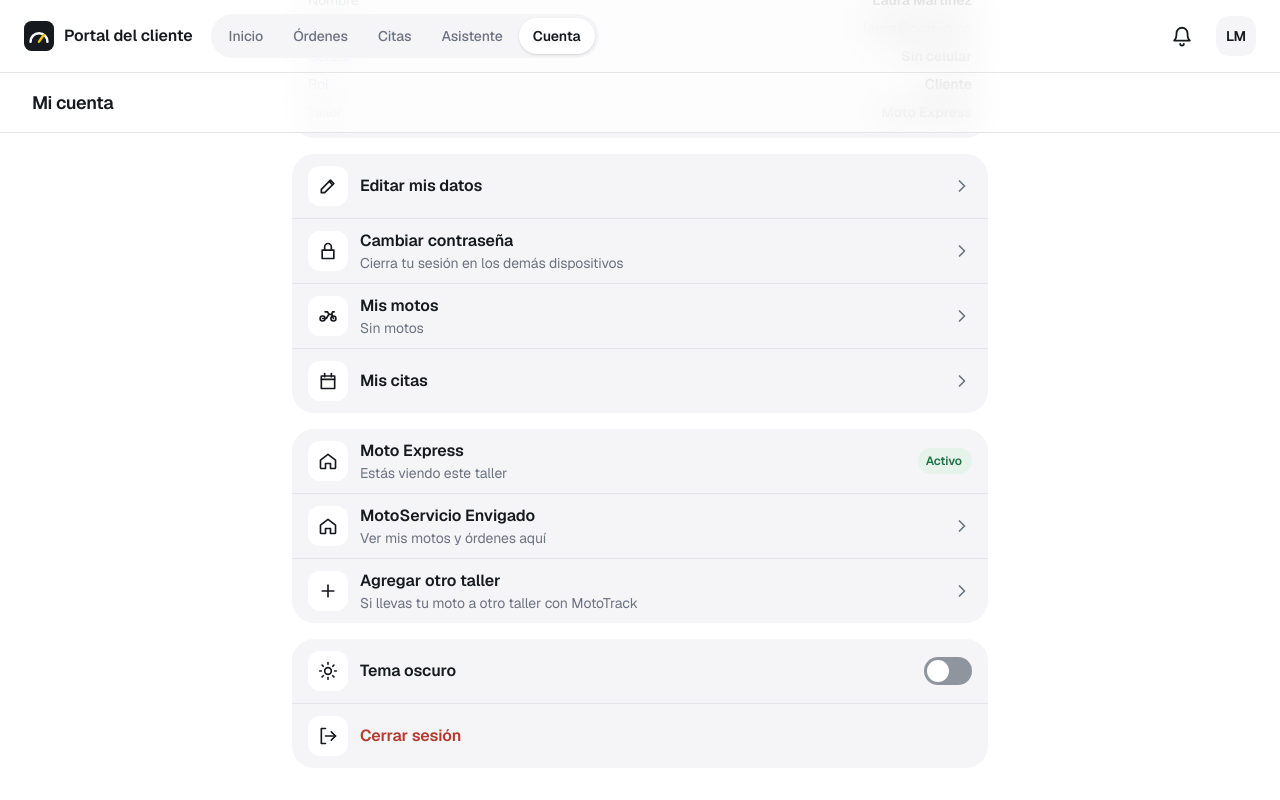
Test: HU-91 · Cuenta de cliente en varios talleres › Mi cuenta lista sus talleres y cambia al otro taller
(page scrolled)
Check: the text "Moto Express" is shown, box [360,440,464,461]
Check: the text "Activo" is shown, box [918,448,972,474]
Click the button "MotoServicio Envigado Ver mis motos y órdenes aquí" at x=328, y=526, box [292,494,988,558]
(page scrolled)
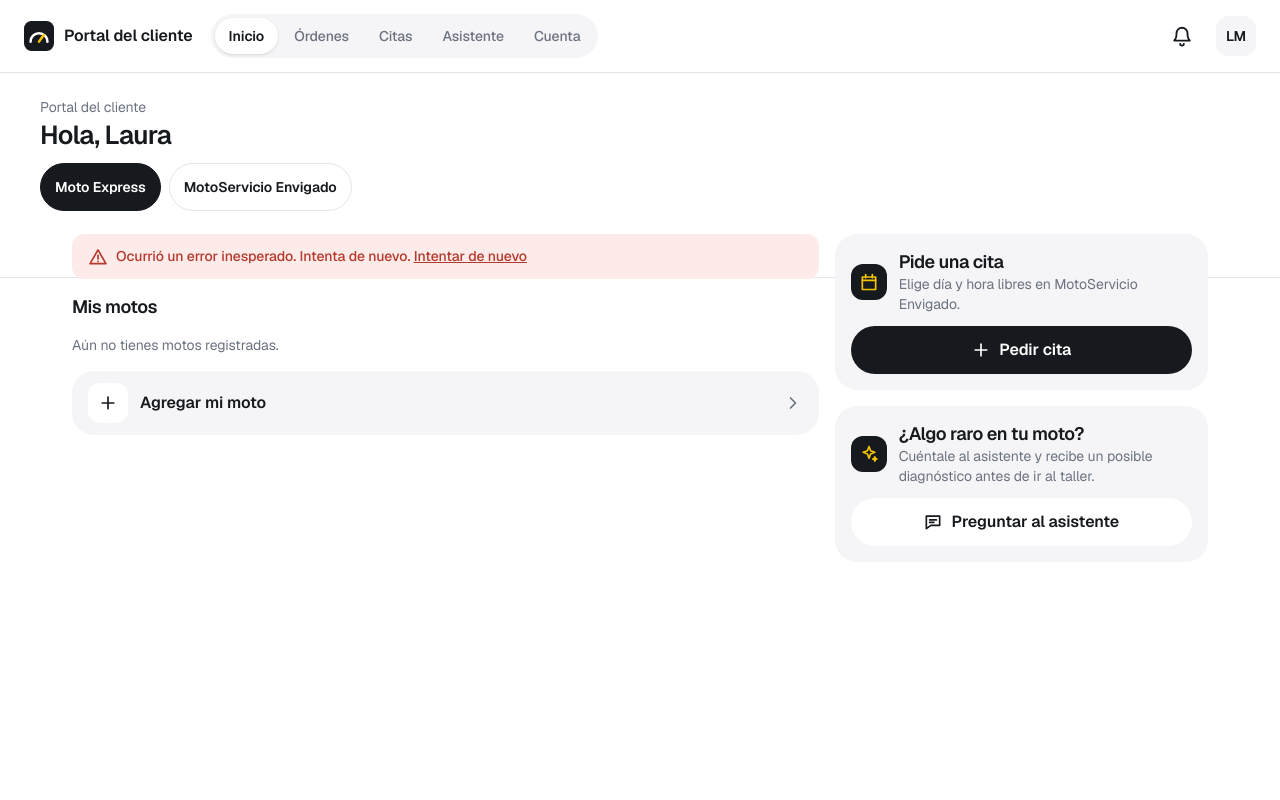
Check: the heading "Hola, Laura" is shown, box [40,121,171,149]
